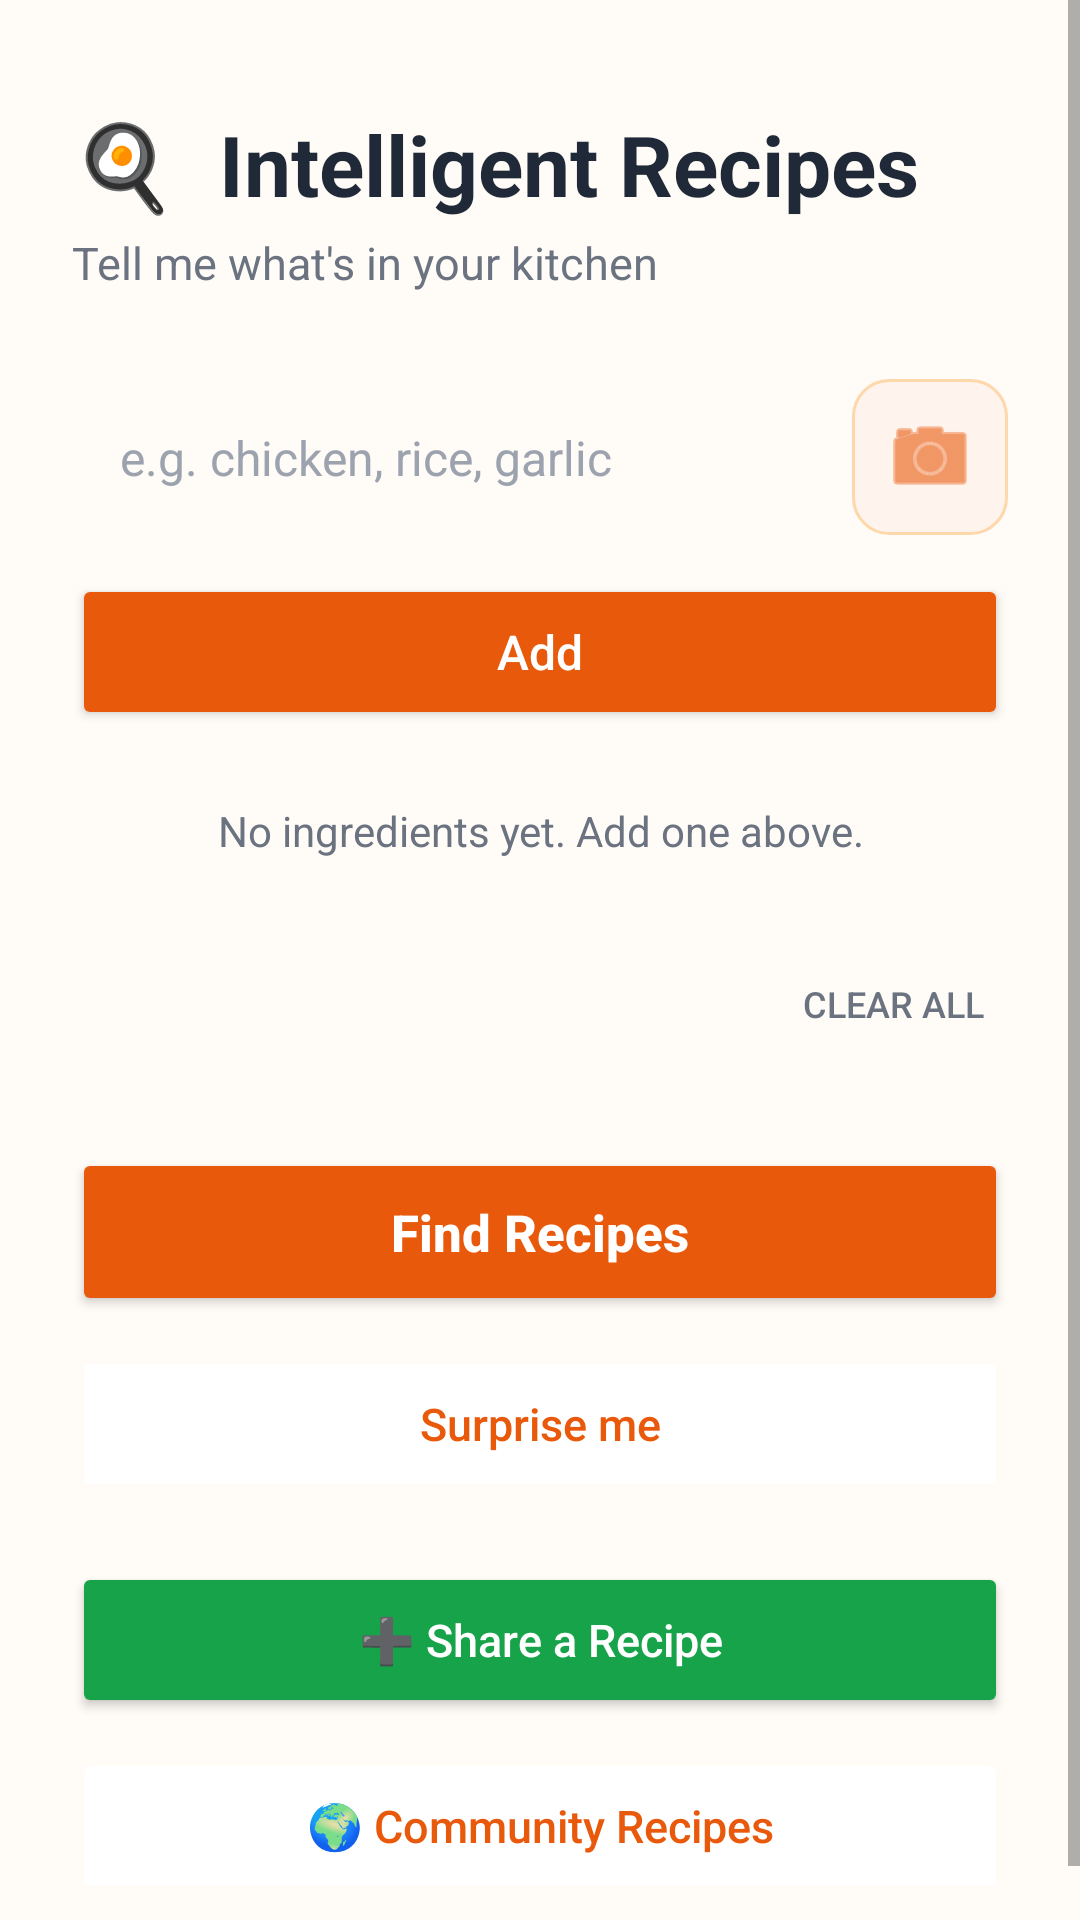

Point at icon controls on the screen. Image size 1080*1920, points as [x,y].
Camera: [930,457]
